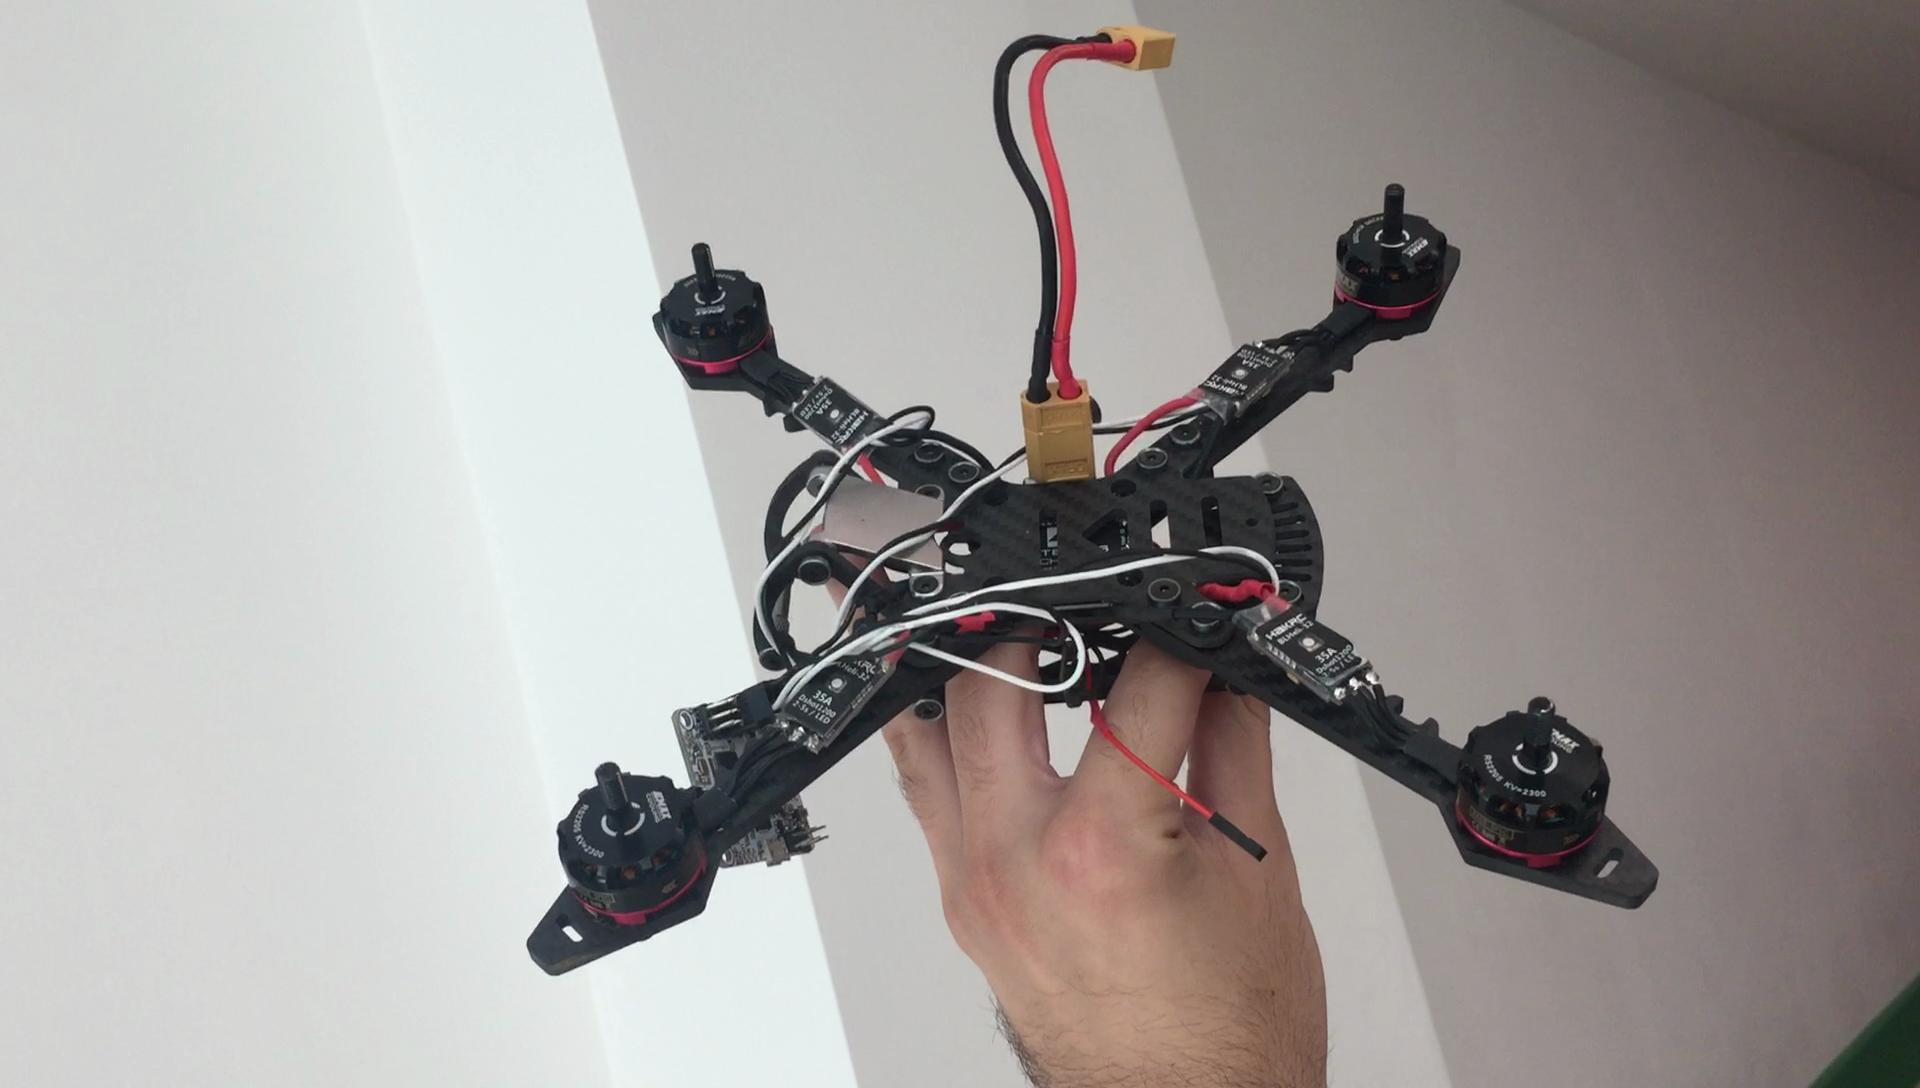drone: (512, 186, 1662, 992)
